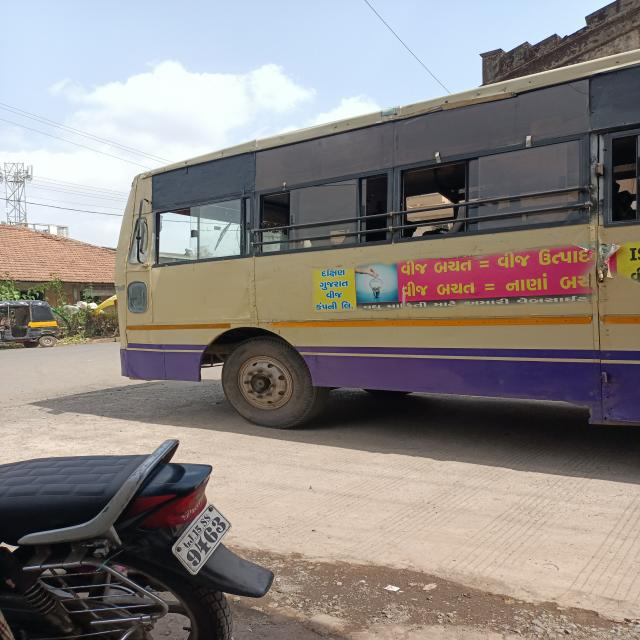Auto: (0, 300, 60, 348)
Bus: (115, 50, 640, 428)
Two Wheeler: (0, 440, 273, 640)
